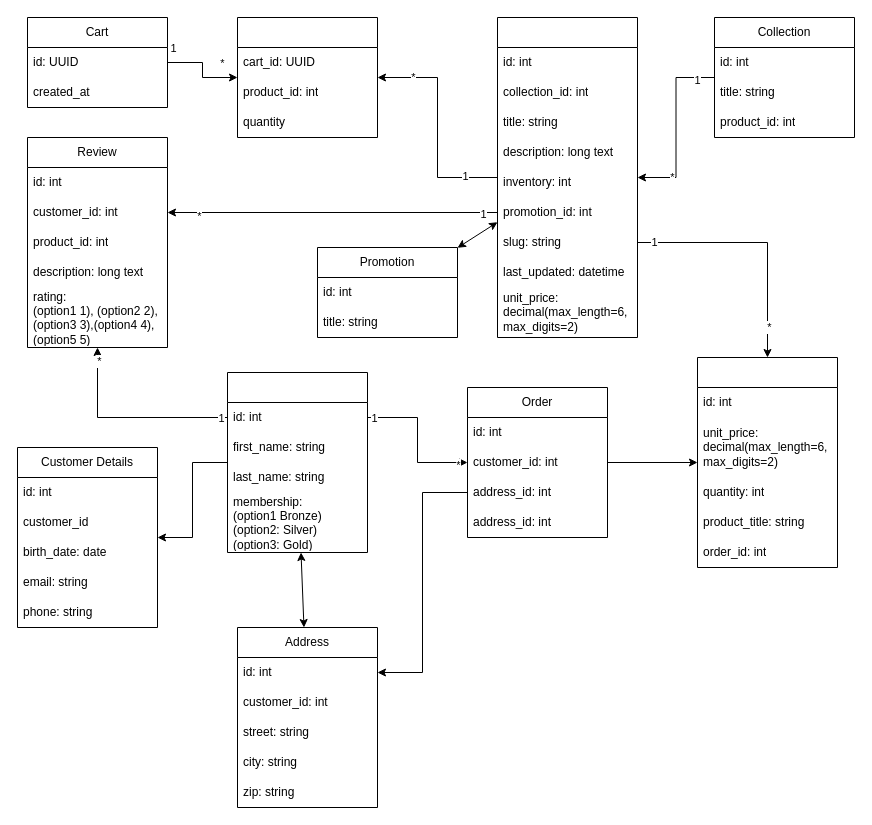
Image size: 872x825. Some labels were removed from this diagram. Each missing label, with the box of its shape:
Cart Item: (236, 16, 378, 138)
Customer: (226, 372, 368, 552)
Order Item: (696, 356, 838, 568)
Product: (496, 16, 638, 338)
